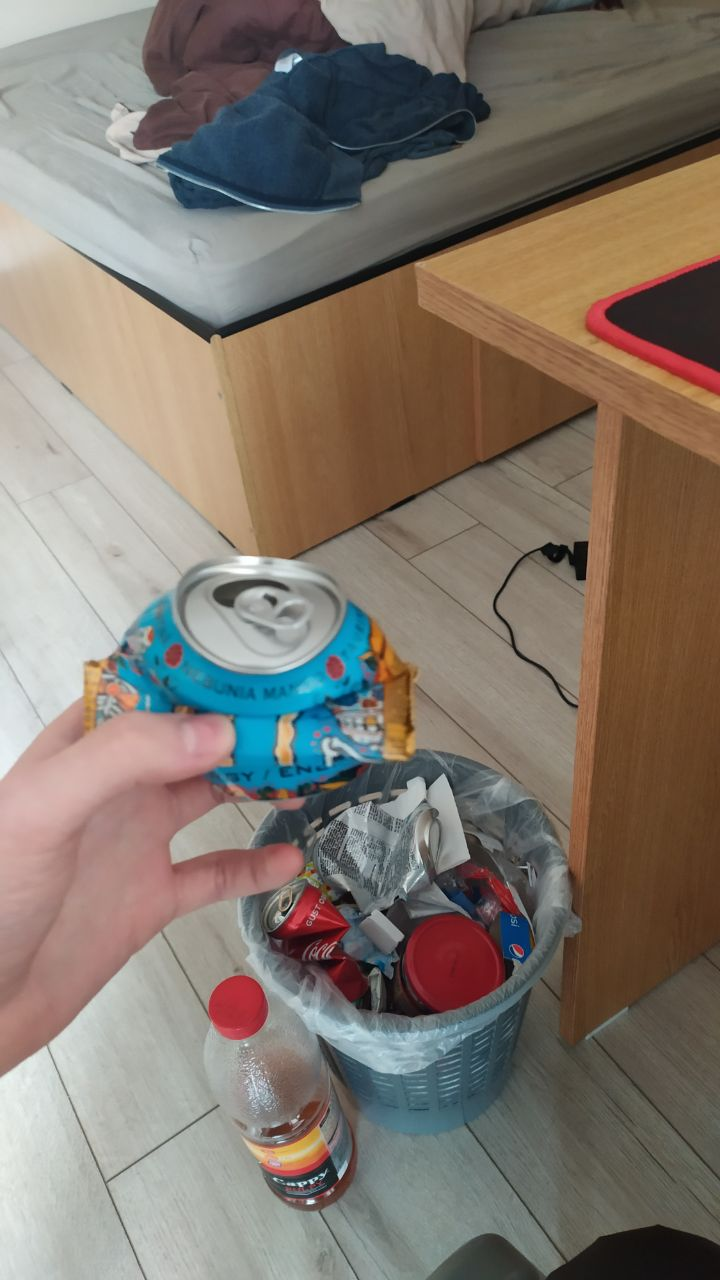Can: (75, 555, 429, 807), (249, 876, 365, 995), (308, 811, 443, 907)
